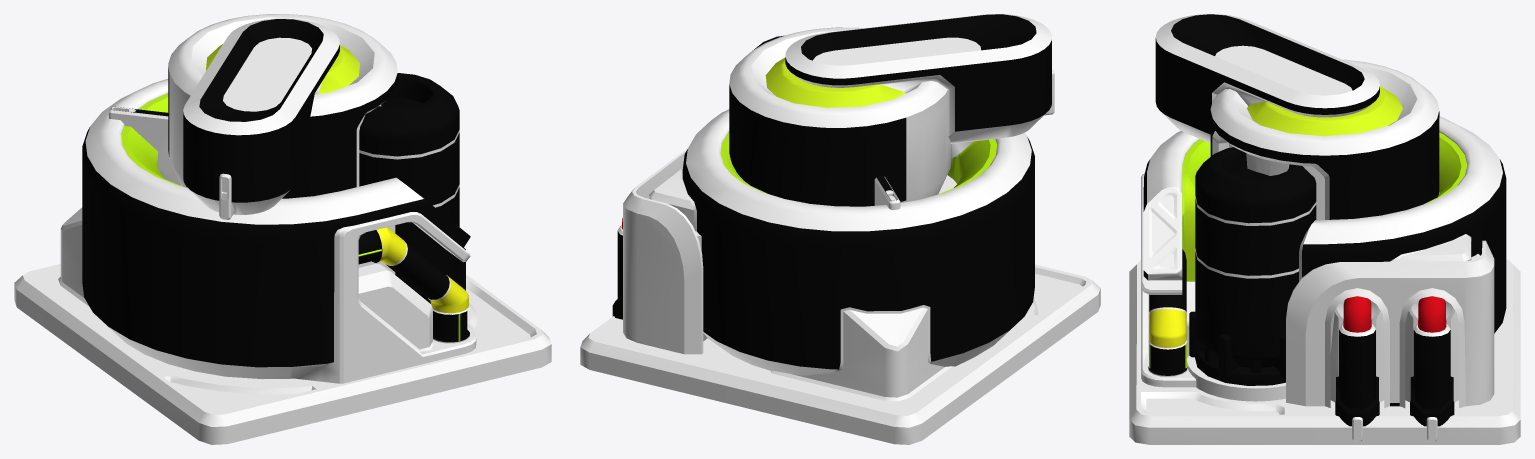
The model's file is part_main-lod0.dae.
3 renders of one model, left to right at view 1: azimuth 30°, elevation 25°; view 2: azimuth 150°, elevation 25°; view 3: azimuth 270°, elevation 25°, orthographic. The views are drawn at different scales.
Visible parts, largest first — view 1: part_main-lod0Xlod0Xp2genericXgen_p2_hulltexture_02_c, part_main-lod0Xlod0Xp2genericXgen_p2_hulltexture_02, part_main-lod0Xlod0Xp2genericXgen_p2_hullpattern_01, part_main-lod0Xlod0Xp2multimatXp2_multimat_01; view 2: part_main-lod0Xlod0Xp2genericXgen_p2_hulltexture_02_c, part_main-lod0Xlod0Xp2genericXgen_p2_hulltexture_02, part_main-lod0Xlod0Xp2genericXgen_p2_hullpattern_01, part_main-lod0Xlod0Xp2multimatXp2_multimat_01; view 3: part_main-lod0Xlod0Xp2genericXgen_p2_hulltexture_02, part_main-lod0Xlod0Xp2genericXgen_p2_hulltexture_02_c, part_main-lod0Xlod0Xp2genericXgen_p2_hullpattern_01, part_main-lod0Xlod0Xp2multimatXp2_multimat_01.
Part boxes in pixels (x1,y1,x2,y2): part_main-lod0Xlod0Xp2genericXgen_p2_hulltexture_02_c: (82,19,470,367); part_main-lod0Xlod0Xp2genericXgen_p2_hulltexture_02: (14,14,551,444); part_main-lod0Xlod0Xp2genericXgen_p2_hullpattern_01: (23,212,542,414); part_main-lod0Xlod0Xp2multimatXp2_multimat_01: (124,44,359,187); part_main-lod0Xlod0Xp2genericXgen_p2_hulltexture_02_c: (617,14,1051,369); part_main-lod0Xlod0Xp2genericXgen_p2_hulltexture_02: (580,14,1100,444); part_main-lod0Xlod0Xp2genericXgen_p2_hullpattern_01: (588,152,1092,415); part_main-lod0Xlod0Xp2multimatXp2_multimat_01: (621,57,993,229); part_main-lod0Xlod0Xp2genericXgen_p2_hulltexture_02: (1129,14,1520,444); part_main-lod0Xlod0Xp2genericXgen_p2_hulltexture_02_c: (1143,14,1506,409); part_main-lod0Xlod0Xp2genericXgen_p2_hullpattern_01: (1136,173,1512,441); part_main-lod0Xlod0Xp2multimatXp2_multimat_01: (1186,86,1463,332).
Size of the model in its own units: 10 by 8 by 10.
